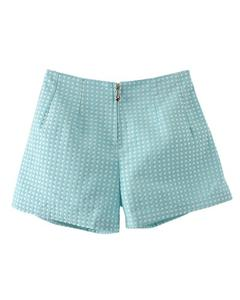C_shorts: (4, 64, 235, 234)
